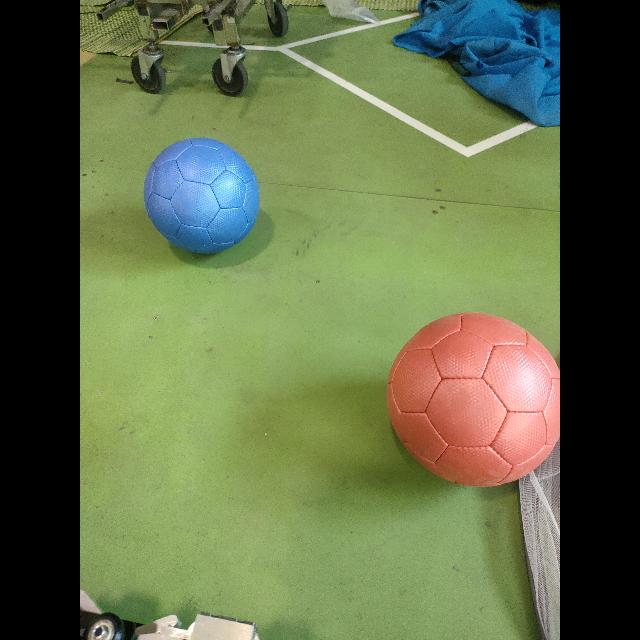B: (143, 137, 261, 260)
R: (386, 313, 560, 490)
